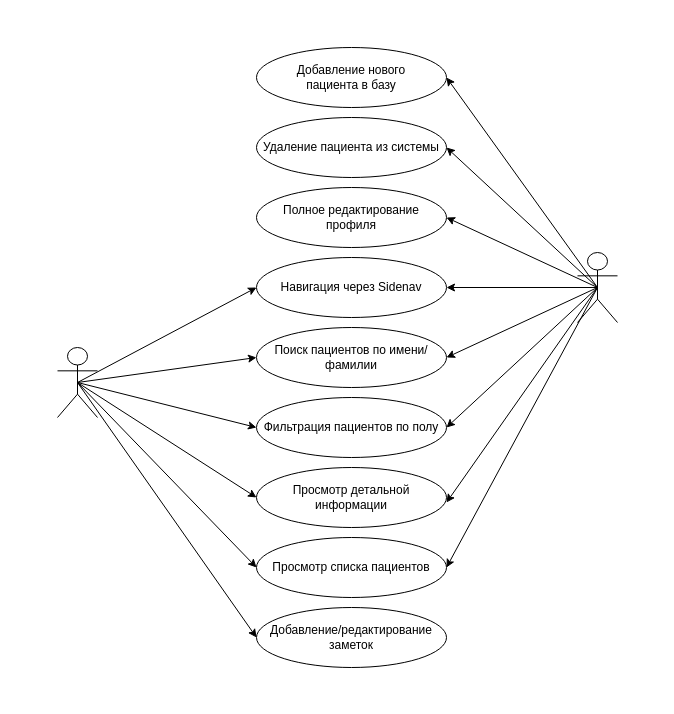
Some shapes in this 674 by 714 pixel diagram are drawn without their labels. The box of each missing label's shape, as (x1, y1, x2, y2) in pixels:
Администратор: (576, 252, 618, 322)
Врач: (56, 346, 98, 418)
